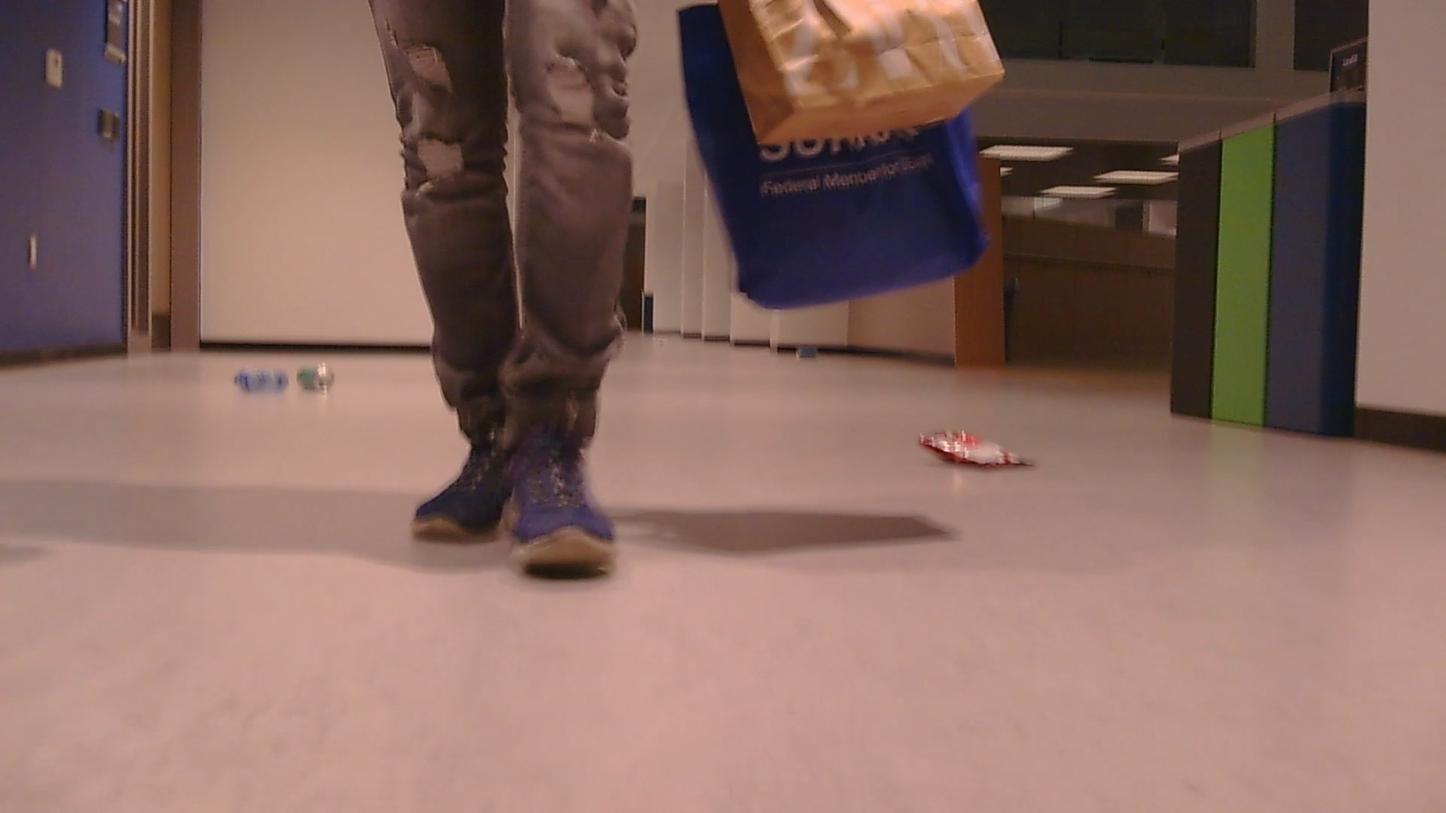carton: (919, 417, 1038, 498), (209, 363, 290, 407), (300, 357, 336, 388)
